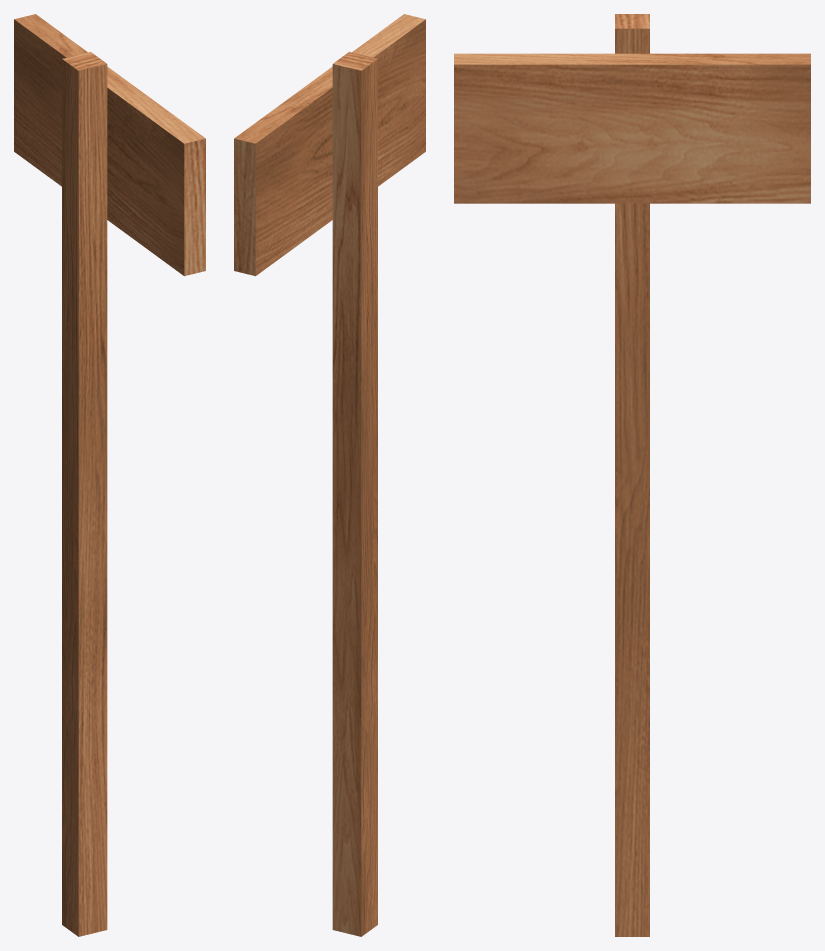
The model's file is PlacaHorta.fbx.
The picture shows the model from 3 angles, left to right: view 1: azimuth 30°, elevation 25°; view 2: azimuth 150°, elevation 25°; view 3: azimuth 270°, elevation 25°; orthographic projection. The views are drawn at different scales.
Visible parts, largest first — view 1: Base, Placa; view 2: Base, Placa; view 3: Placa, Base.
Boxes of the visible parts, x1,y1,x2,y2 form: Base: (62, 51, 107, 936); Placa: (14, 14, 205, 276); Base: (332, 51, 377, 936); Placa: (234, 14, 425, 276); Placa: (454, 53, 810, 203); Base: (615, 14, 649, 936).
Size of the model in its own units: 20.55 by 336 by 120.
Materials: 1 (1 with a texture image).
